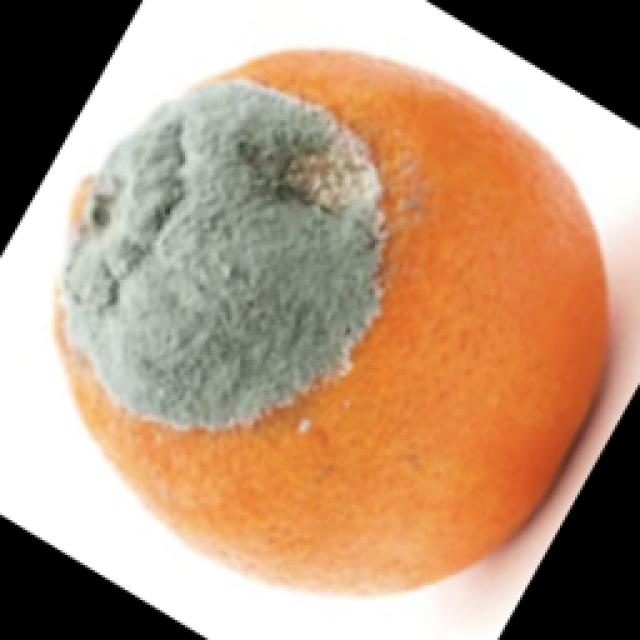Rotten_Orange: (31, 6, 633, 640)
